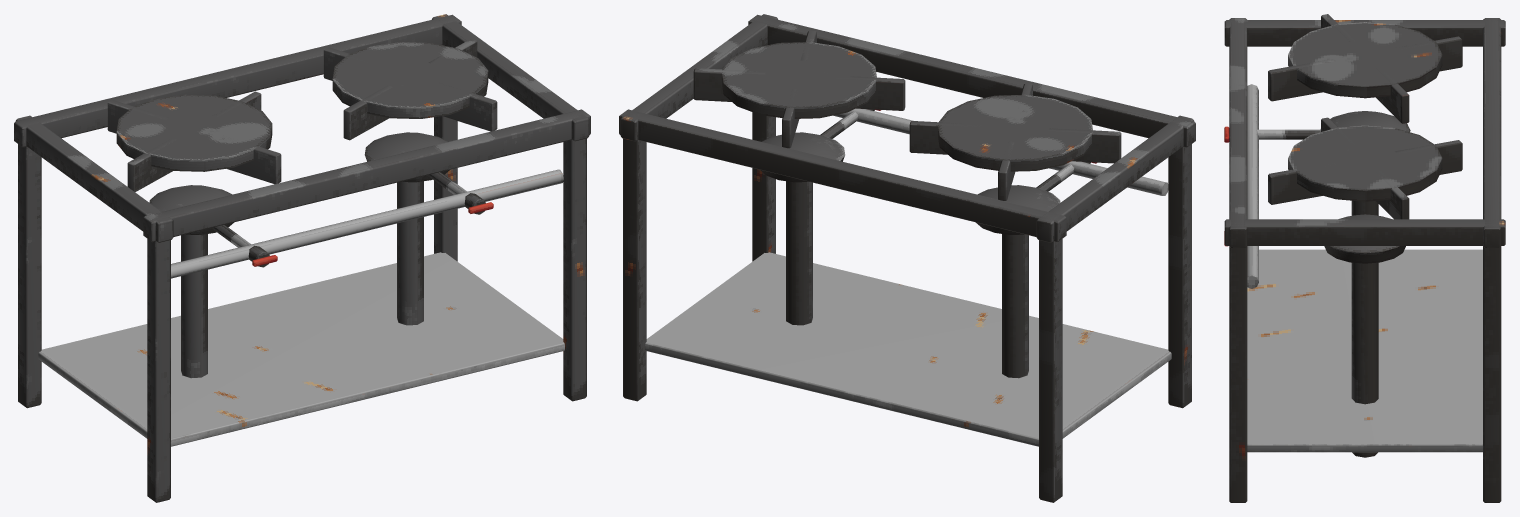
The model's file is stock_stove.glb.
The picture shows the model from 3 angles, left to right: view 1: azimuth 30°, elevation 25°; view 2: azimuth 150°, elevation 25°; view 3: azimuth 270°, elevation 25°; orthographic projection.
Visible parts, largest first — view 1: mesh; view 2: mesh; view 3: mesh.
Boxes of the visible parts, x1=… form: mesh: x1=14, y1=14, x2=590, y2=502; mesh: x1=619, y1=14, x2=1195, y2=502; mesh: x1=1224, y1=14, x2=1505, y2=502.
Bounding box in the file's own units: 1.1 × 0.715 × 0.621.
Materials: 1 (1 with a texture image).
